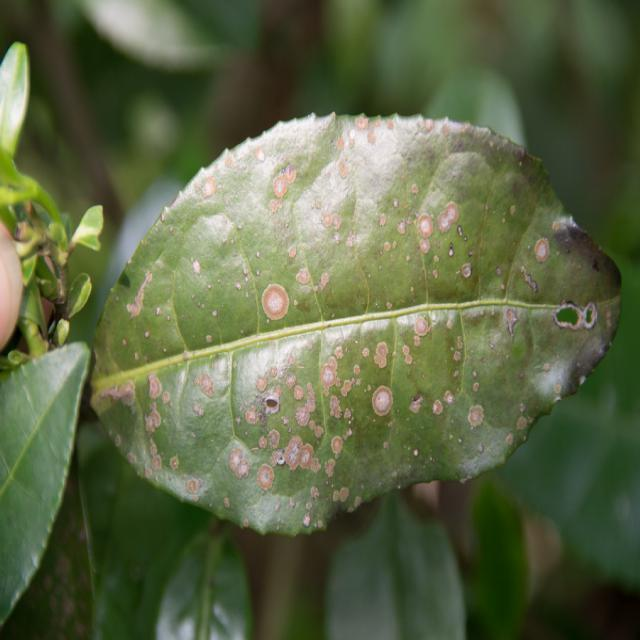Tea algae leaf spot: (140, 113, 608, 498)
